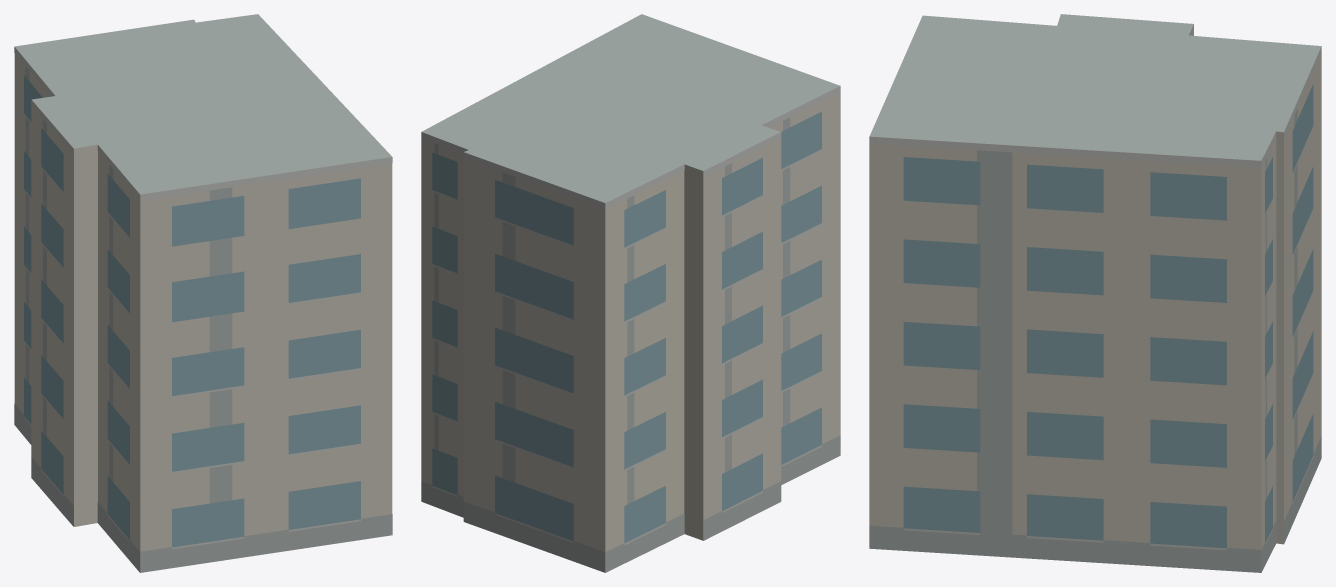
The model's file is survey-upis-32887517.glb.
The picture shows the model from 3 angles, left to right: view 1: azimuth 30°, elevation 25°; view 2: azimuth 150°, elevation 25°; view 3: azimuth 270°, elevation 25°; orthographic projection. The views are drawn at different scales.
Visible parts, largest first — view 1: survey-upis-32887517.tmp; view 2: survey-upis-32887517.tmp; view 3: survey-upis-32887517.tmp.
Boxes of the visible parts, bbox=[...] form: survey-upis-32887517.tmp: bbox=[14, 14, 392, 572]; survey-upis-32887517.tmp: bbox=[421, 14, 840, 572]; survey-upis-32887517.tmp: bbox=[869, 14, 1321, 572].
Size of the model in its own units: 11.05 by 14.45 by 14.38.
